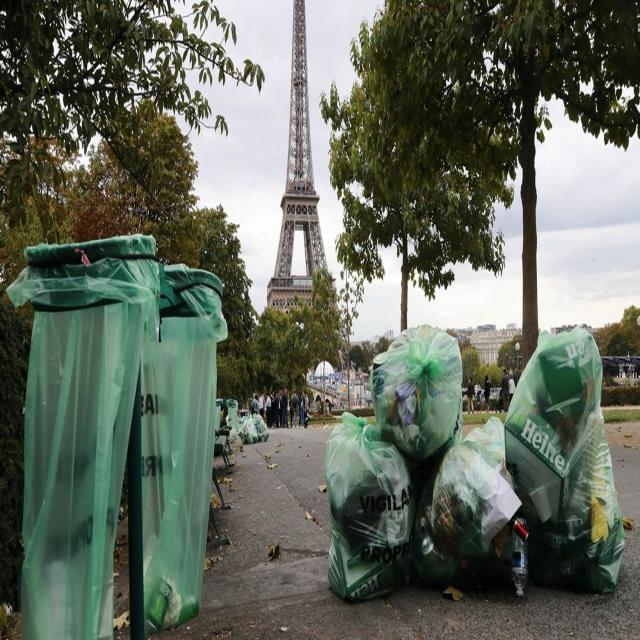garbage: (20, 191, 223, 640), (328, 306, 626, 606)
